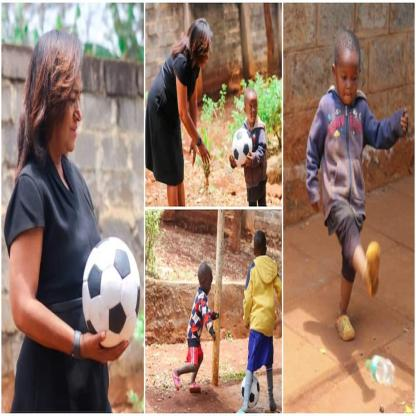ball: (81, 235, 142, 352), (232, 125, 254, 170), (240, 372, 260, 410)
